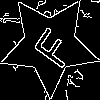F: (24, 20, 77, 72)
